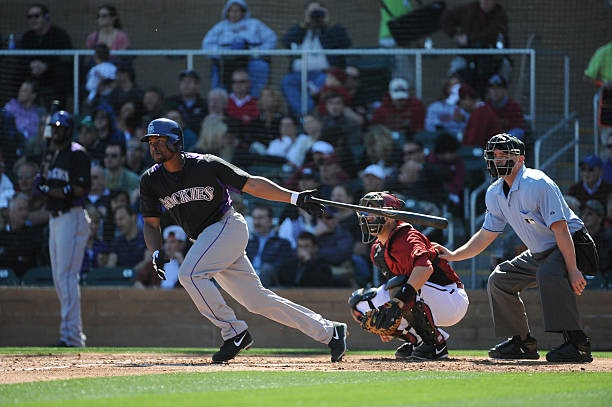bita: (304, 192, 451, 230)
